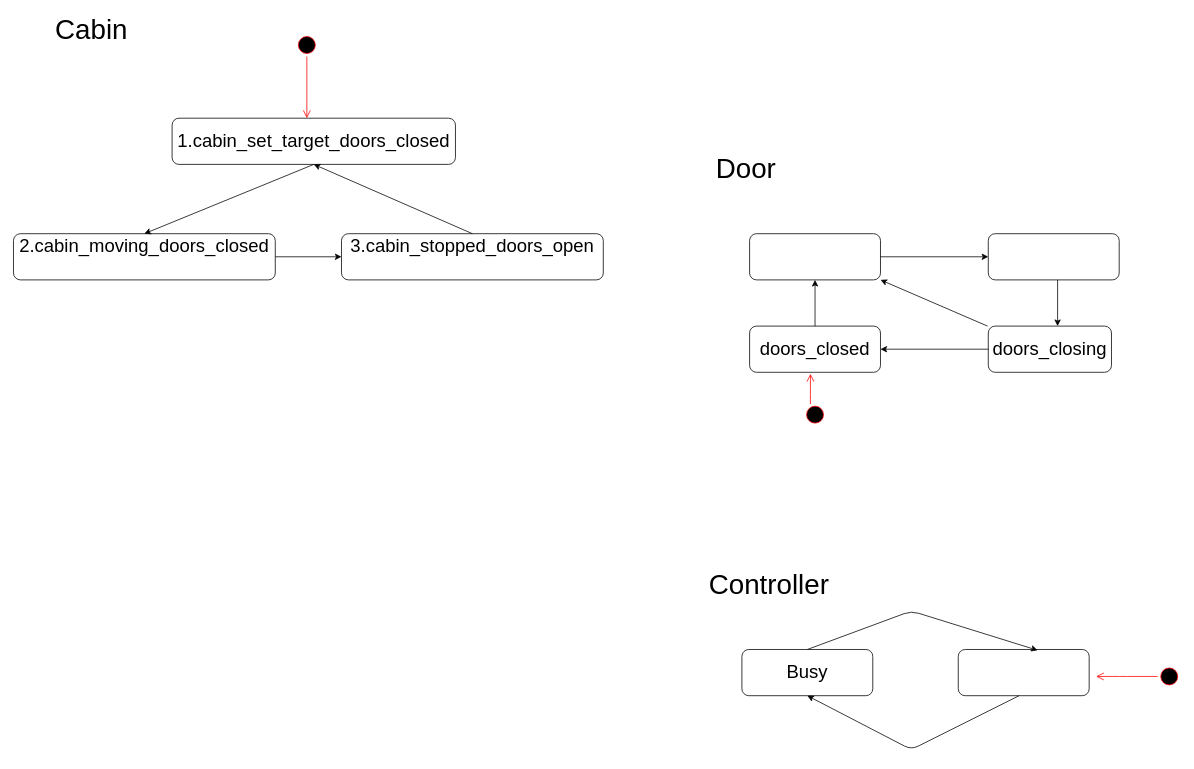
This 1194x769 diagram has some shape labels left out. The box of each missing label's shape, as (x1, y1, x2, y2) in pixels:
doors_opened: (988, 233, 1119, 280)
doors_opening: (749, 233, 880, 280)
Free: (957, 649, 1089, 696)
